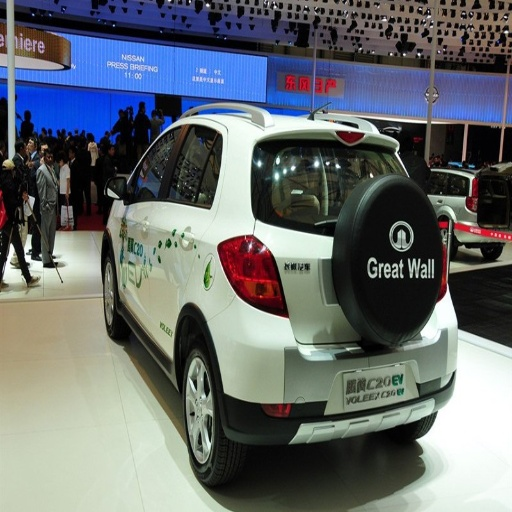back_bumper: (209, 295, 454, 443)
back_glass: (255, 140, 383, 230)
back_left_door: (148, 123, 220, 342)
tailgate: (266, 245, 422, 349)
trunk: (262, 227, 347, 264)
